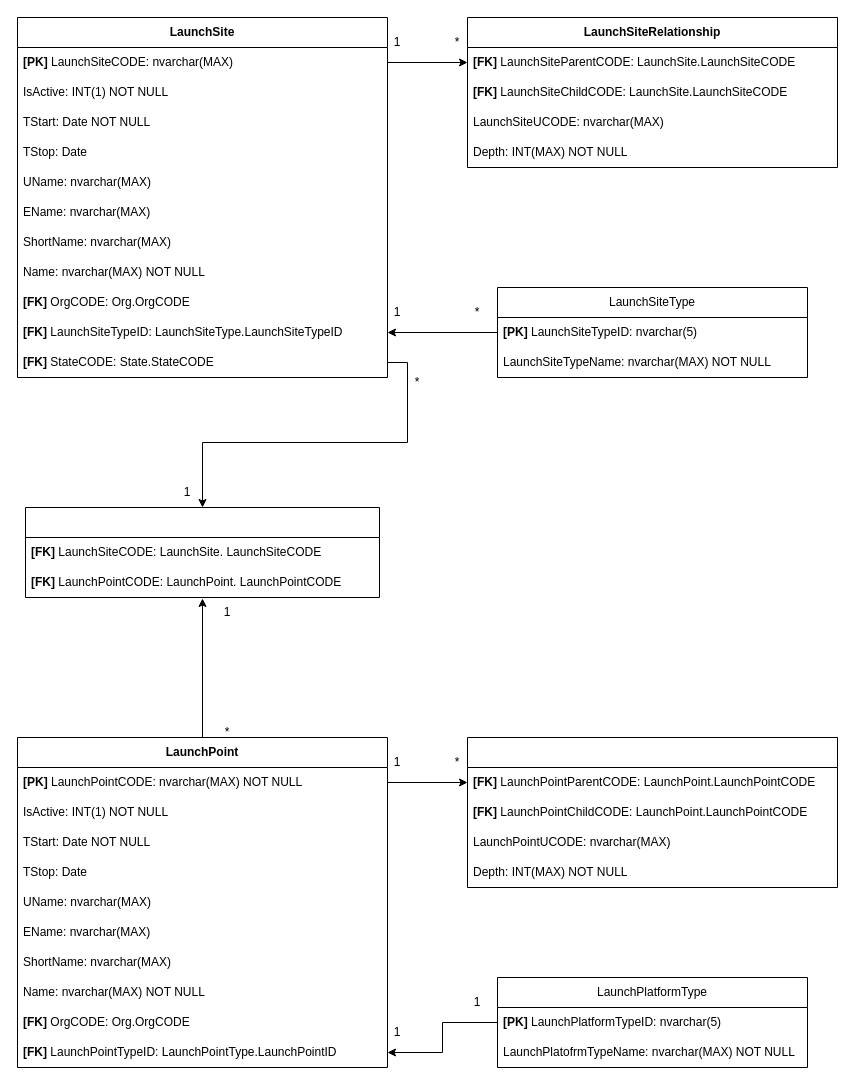
This 855x1085 diagram has some shape labels left out. The shapes that lost their labels are listed below. From the top down, each one's box as (x1, y1, x2, y2) in pixels, then its label:
(24, 506, 380, 598): LaunchSiteTypeJoin
(466, 736, 838, 888): LaunchPointRelationship
